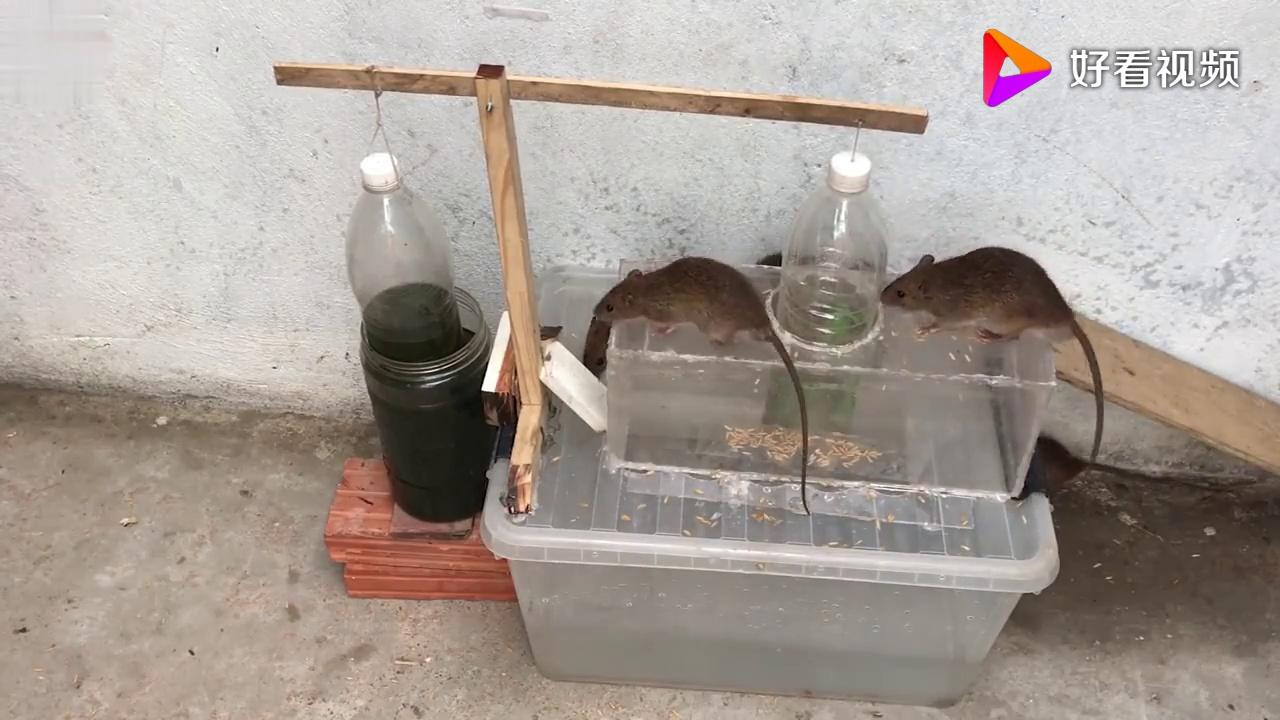rat: (873, 224, 1098, 373), (581, 245, 805, 389)
